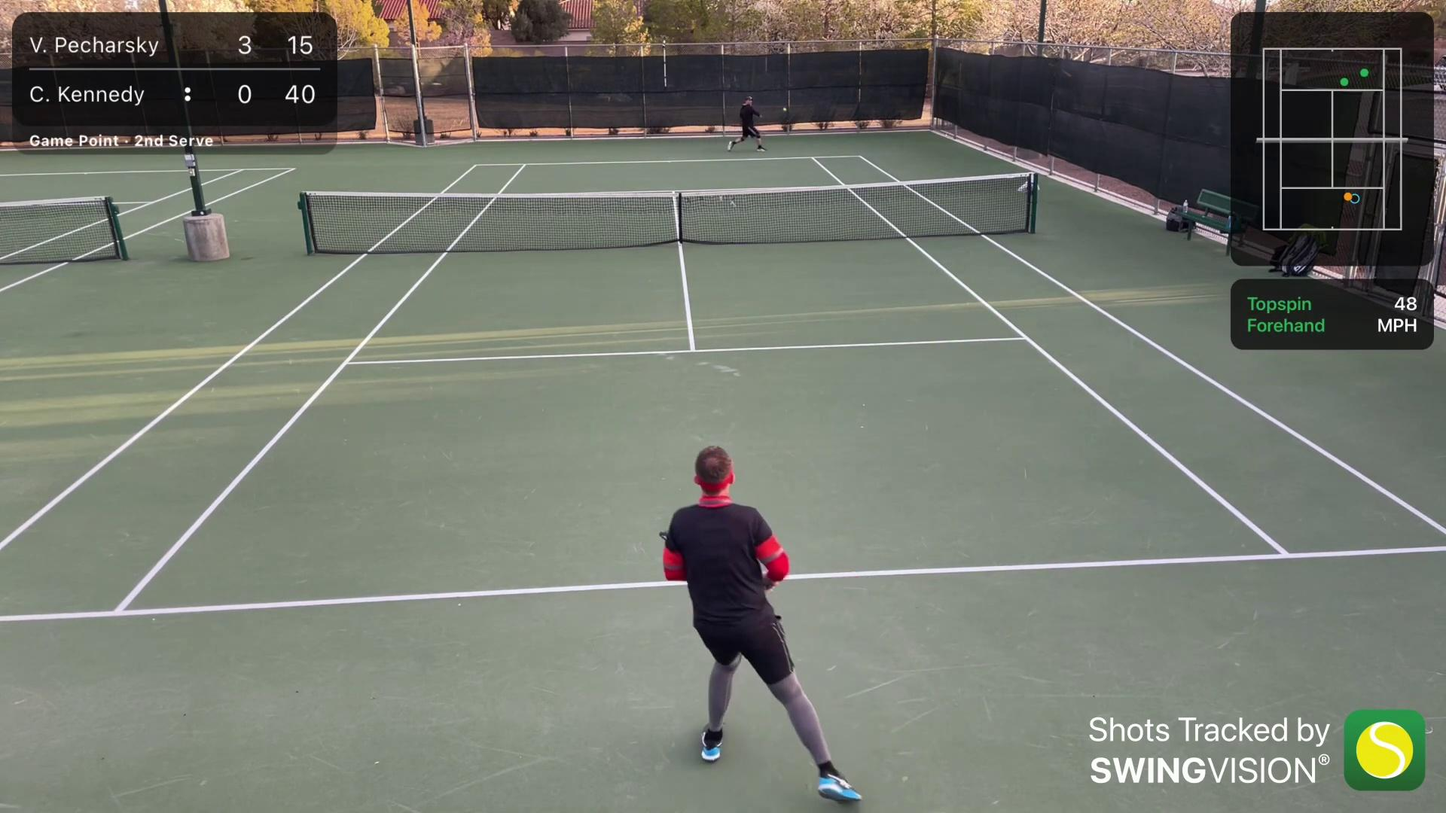ball: (781, 106, 788, 113)
